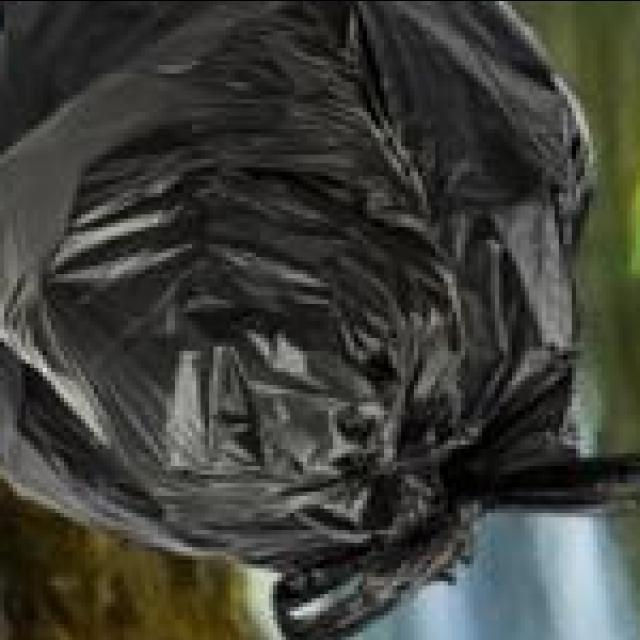Trashbag: (5, 8, 571, 635)
